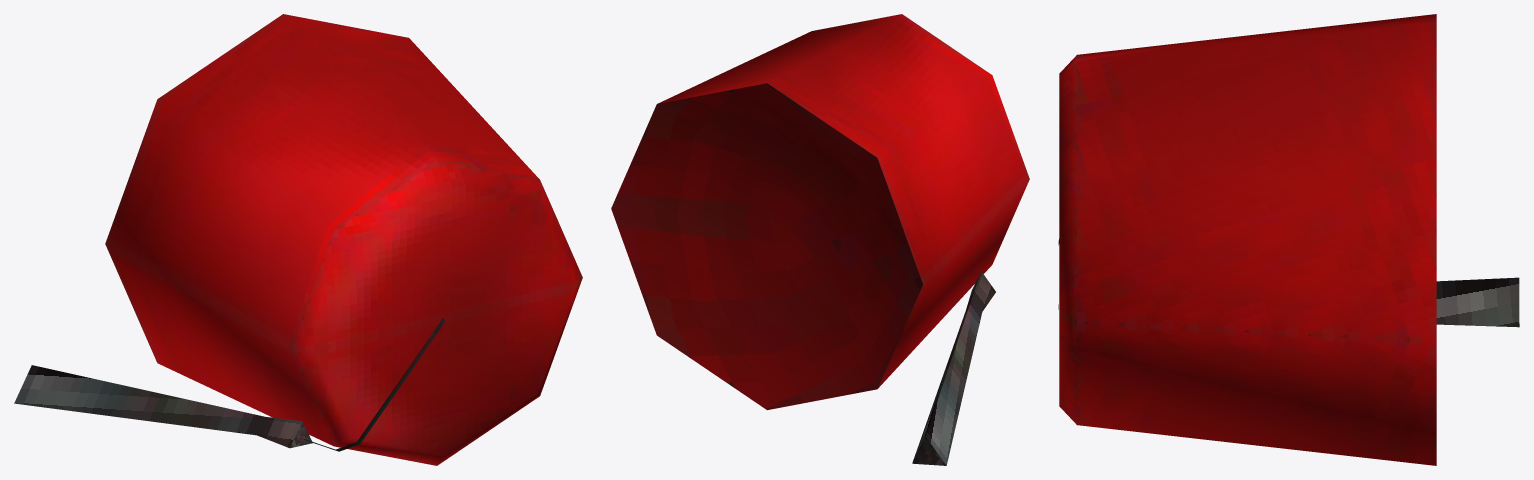
Rendered from tt_m_chr_avt_acc_hat_fez.glb.
The picture shows the model from 3 angles, left to right: view 1: azimuth 30°, elevation 25°; view 2: azimuth 150°, elevation 25°; view 3: azimuth 270°, elevation 25°; orthographic projection. The views are drawn at different scales.
Visible parts, largest first — view 1: fexHat; view 2: fexHat; view 3: fexHat.
Boxes of the visible parts, bbox=[...] form: fexHat: bbox=[14, 14, 582, 465]; fexHat: bbox=[611, 14, 1029, 465]; fexHat: bbox=[1058, 14, 1519, 465].
Size of the model in its own units: 2.07 by 1.78 by 1.71.
1 material, 1 textured.
